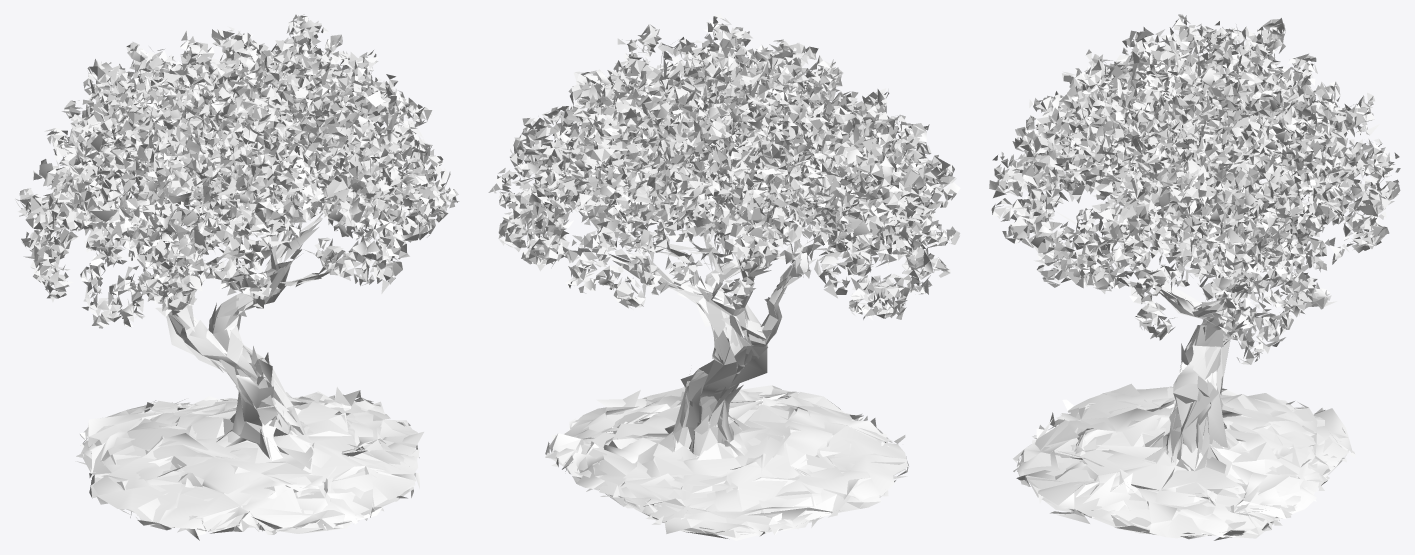
File: sakura_young_lod1.glb
The picture shows the model from 3 angles, left to right: view 1: azimuth 30°, elevation 25°; view 2: azimuth 150°, elevation 25°; view 3: azimuth 270°, elevation 25°; orthographic projection.
Parts seen in each view (by area): view 1: Mesh_0; view 2: Mesh_0; view 3: Mesh_0.
Boxes of the visible parts, x1=… form: Mesh_0: x1=15, y1=14, x2=459, y2=540; Mesh_0: x1=488, y1=14, x2=960, y2=540; Mesh_0: x1=989, y1=14, x2=1400, y2=540.
Size of the model in its own units: 5.7 by 5.61 by 4.8.
Materials: 1 (1 with a texture image).
